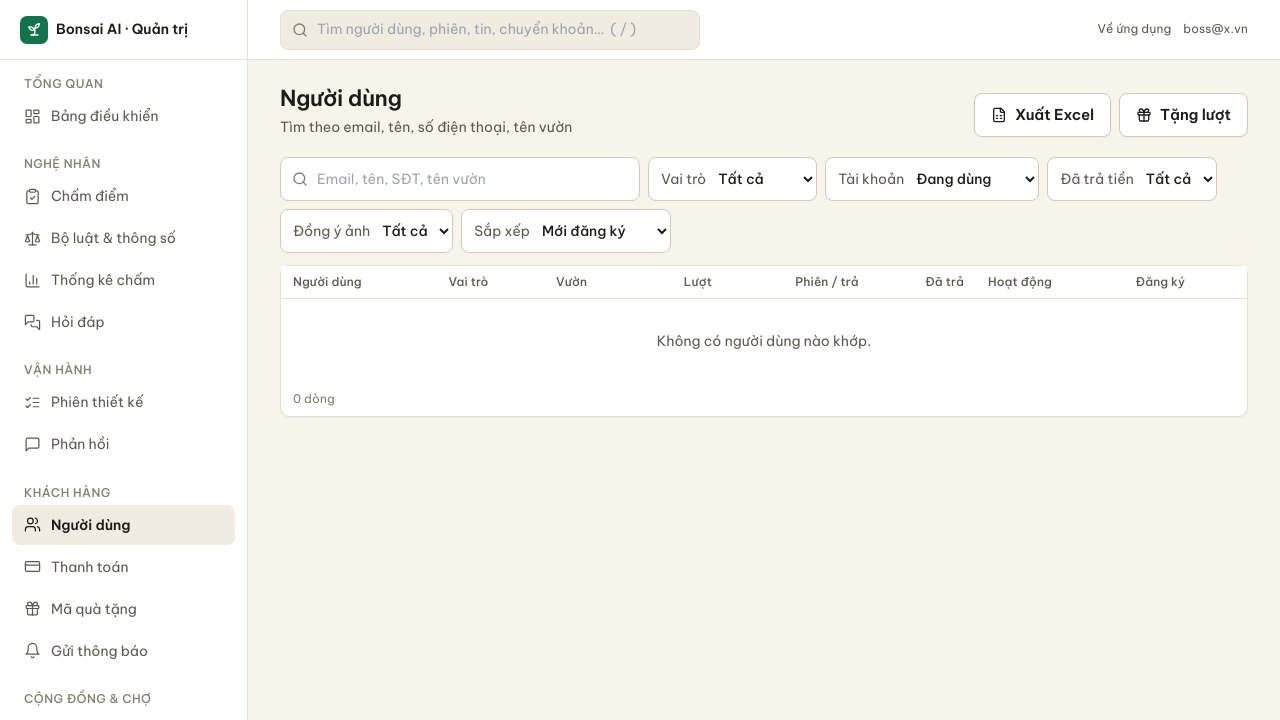
Test: Admin console › gifts credits to many emails at once
This screenshot has width=1280, height=720.
Click the button "Tặng lượt" at [1184, 115], box top-left (1119, 93), bottom-right (1248, 137)
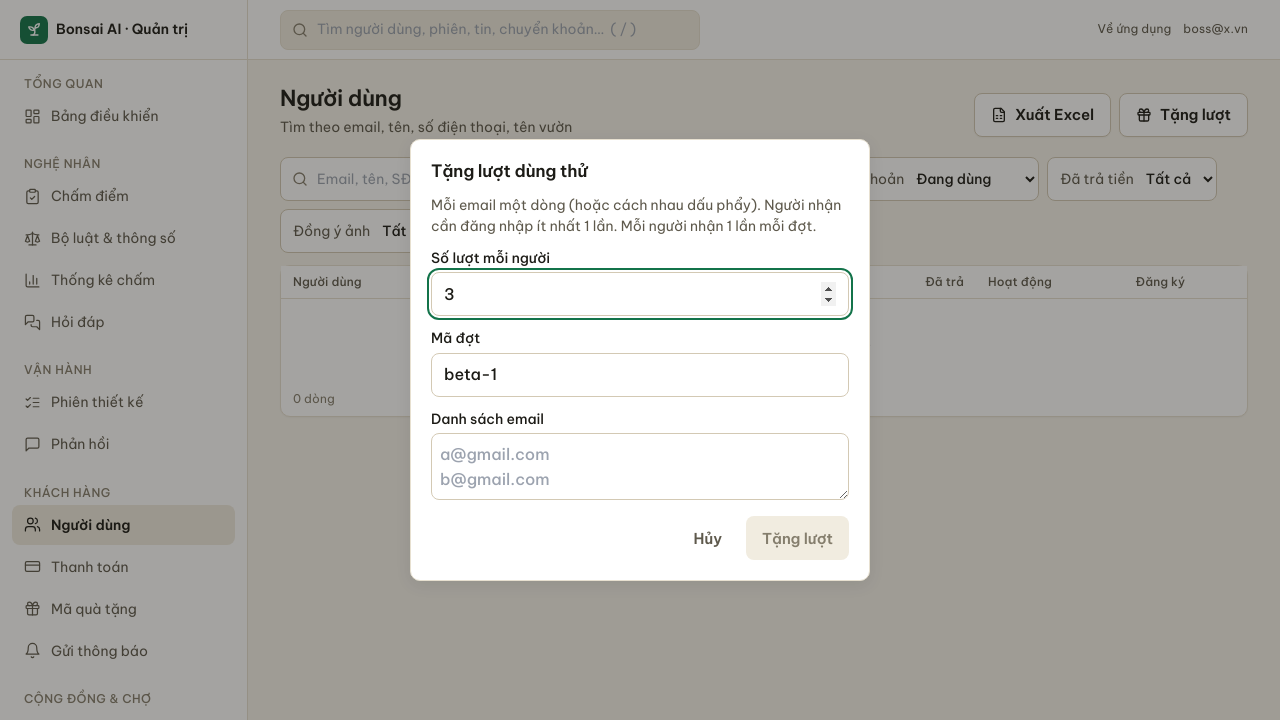
Type "a@b.vn, c@d.vn" into the text box labelled "Danh sách email" at [640, 467], box top-left (431, 433), bottom-right (849, 500)
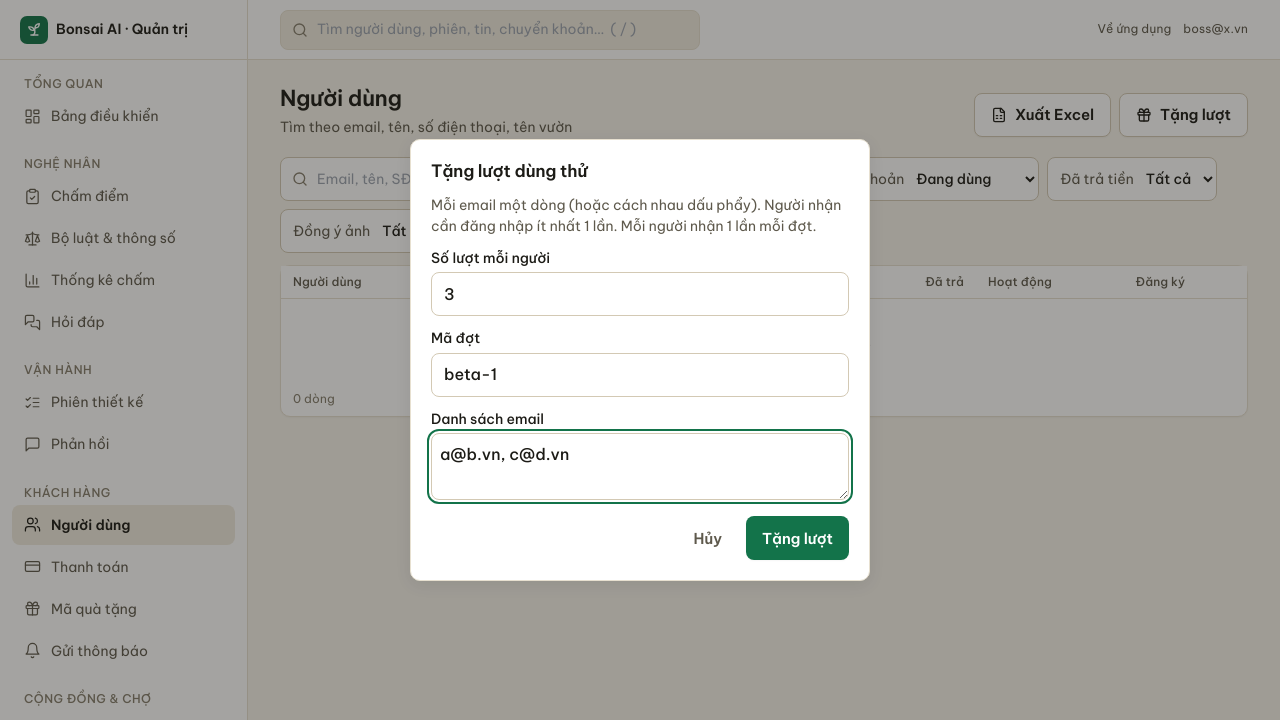
Click the button "Tặng lượt" at [798, 538], box top-left (746, 516), bottom-right (849, 560)
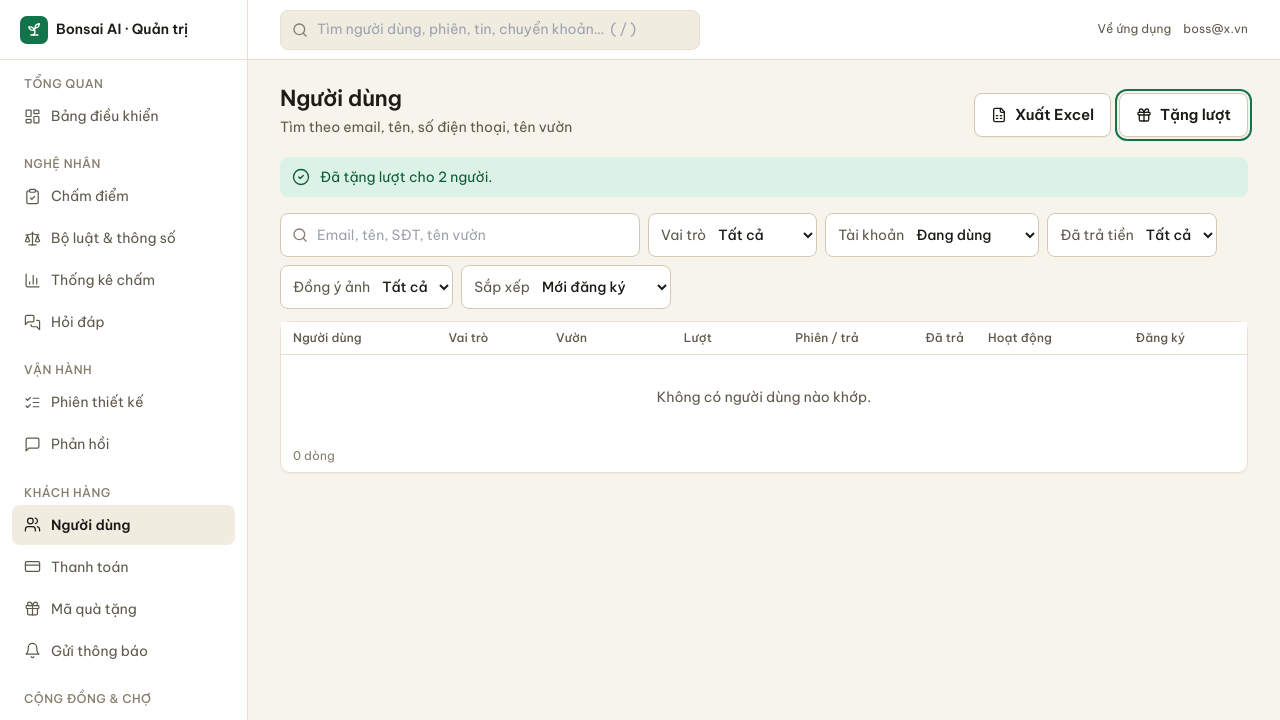
Result: the text "Đã tặng lượt cho 2 người." is shown at top-left (320, 168), bottom-right (492, 186)
